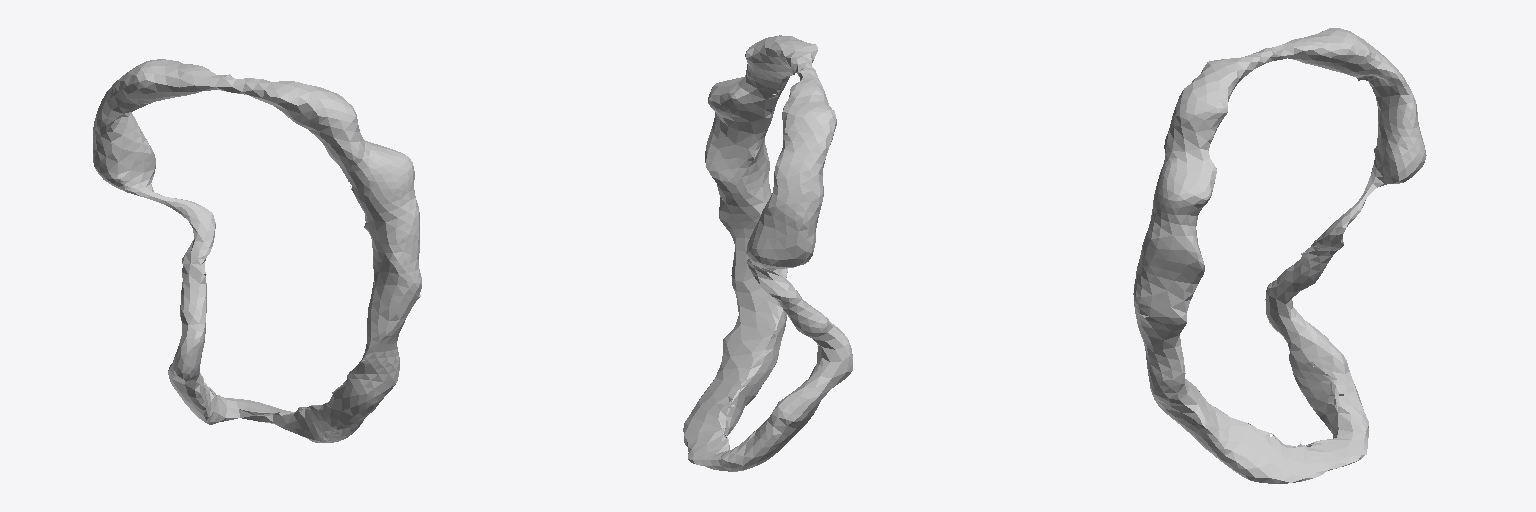
3 views of the same model, side by side, from view 1: azimuth 30°, elevation 25°; view 2: azimuth 150°, elevation 25°; view 3: azimuth 270°, elevation 25° (orthographic).
Visible parts, largest first — view 1: Polygonal_Model_5_Triangles_0; view 2: Polygonal_Model_5_Triangles_0; view 3: Polygonal_Model_5_Triangles_0.
Part boxes in pixels (x1,y1,x2,y2): Polygonal_Model_5_Triangles_0: (93, 59, 421, 442); Polygonal_Model_5_Triangles_0: (683, 35, 852, 471); Polygonal_Model_5_Triangles_0: (1133, 28, 1426, 483).
Bounding box in the file's own units: 0.2995 × 0.5186 × 0.3607.